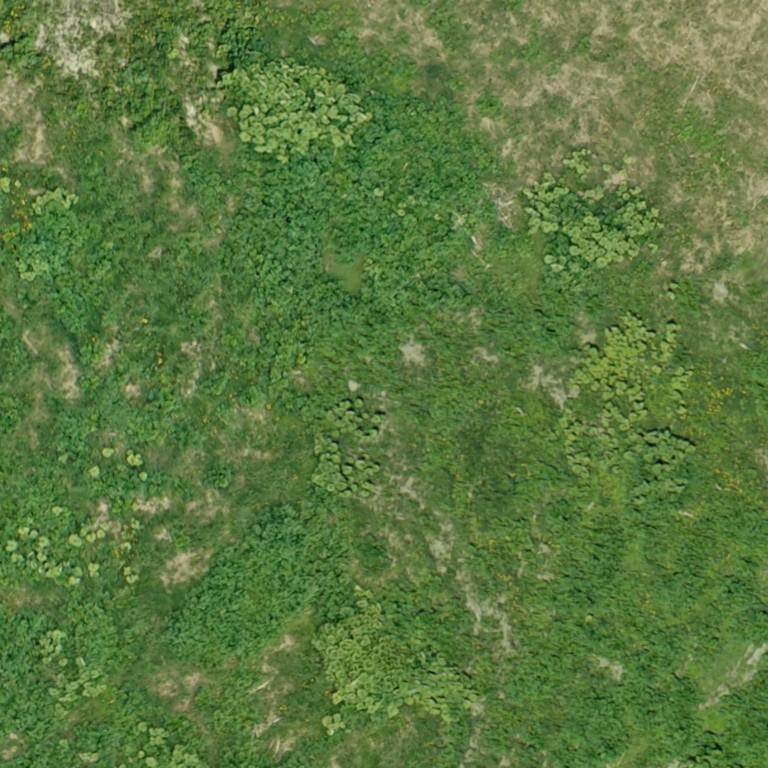hogweed: (184, 60, 592, 387), (160, 487, 386, 671), (16, 200, 123, 336), (0, 609, 55, 746), (0, 37, 37, 65)
